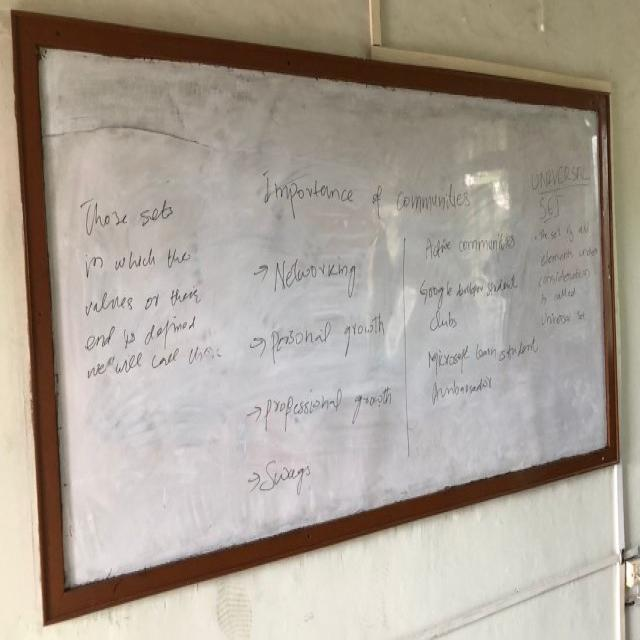White-board: (27, 20, 617, 610)
